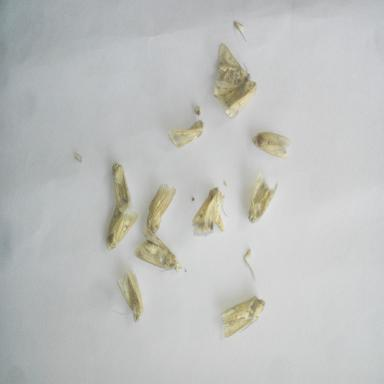abw: (208, 38, 254, 100), (134, 222, 184, 277), (218, 292, 269, 344), (189, 183, 231, 239), (214, 76, 263, 122), (103, 198, 143, 252), (246, 168, 282, 228), (112, 265, 146, 326), (145, 178, 179, 237), (107, 158, 136, 218), (250, 124, 293, 164), (165, 116, 206, 152)
